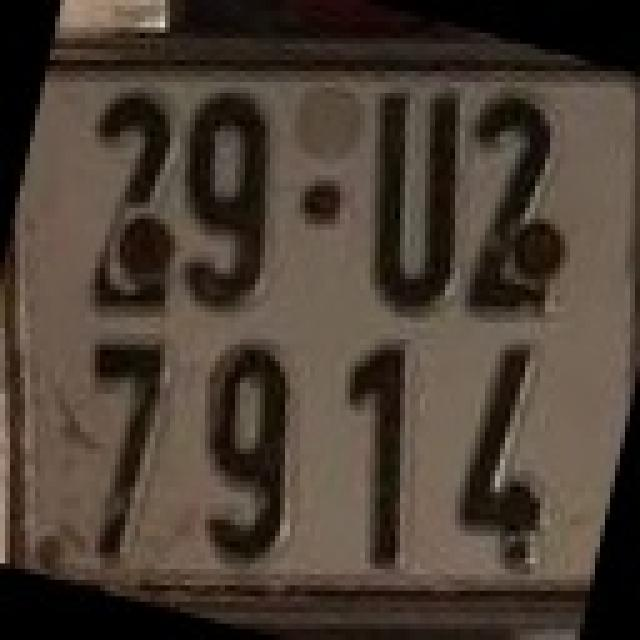1: (338, 336, 428, 572)
2: (462, 88, 572, 322), (82, 87, 178, 312)
4: (465, 90, 575, 320), (450, 337, 555, 577)
7: (80, 334, 170, 563)
9: (188, 334, 298, 569), (180, 87, 275, 312)
U: (365, 82, 465, 312)
